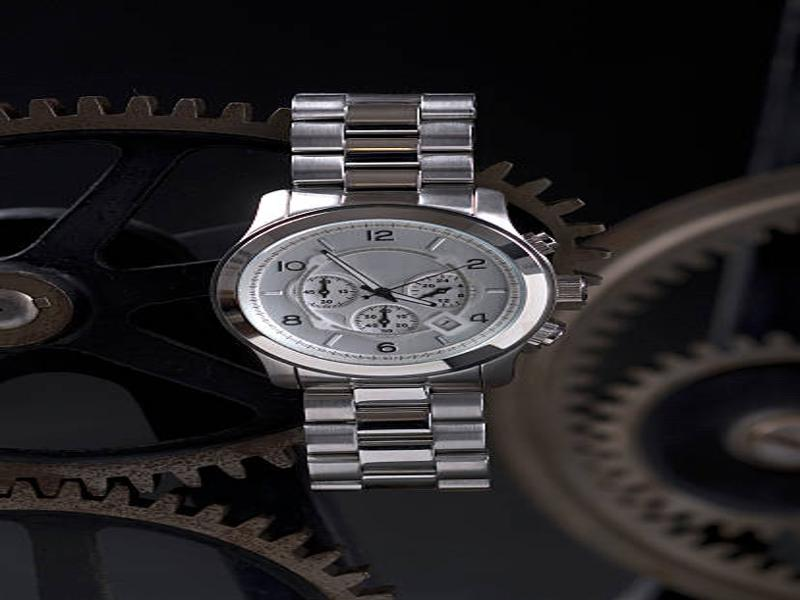watch: (210, 84, 588, 492)
